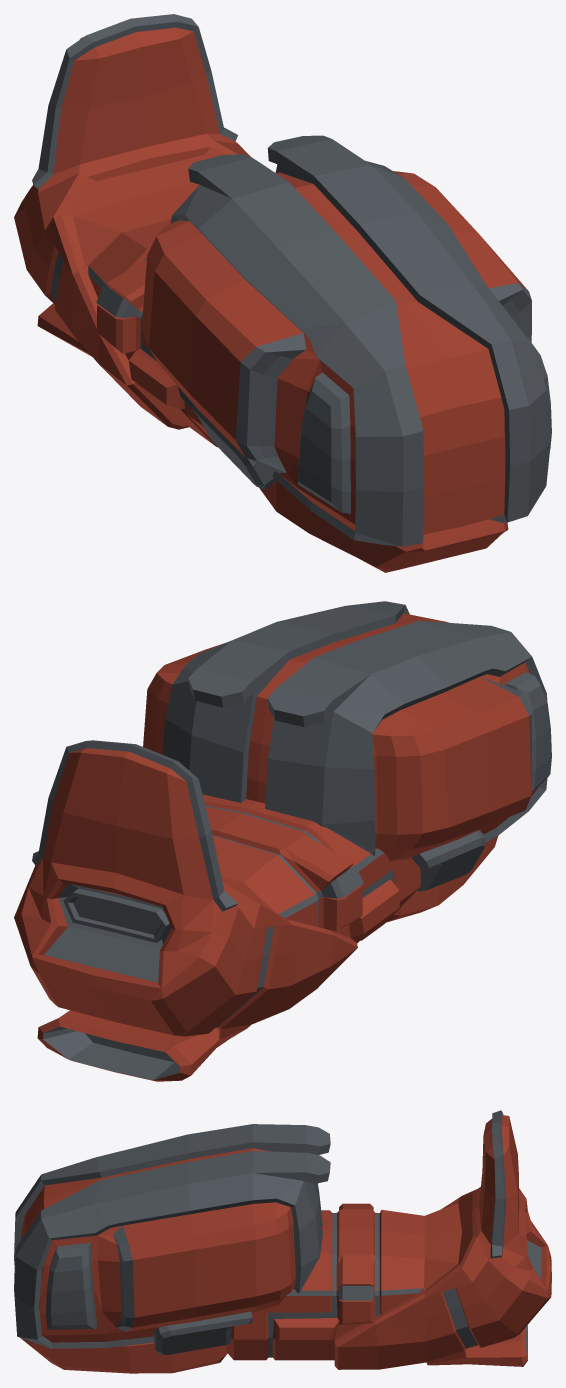
The model's file is Personal_Vehicle_01_Neutral_Red.fbx.
3 views of the same model, one above another, from view 1: azimuth 30°, elevation 25°; view 2: azimuth 150°, elevation 25°; view 3: azimuth 270°, elevation 25° (orthographic). The views are drawn at different scales.
Visible parts, largest first — view 1: Personal_Vehicle_01_Neutral_Red; view 2: Personal_Vehicle_01_Neutral_Red; view 3: Personal_Vehicle_01_Neutral_Red.
Boxes of the visible parts, bbox=[...] form: Personal_Vehicle_01_Neutral_Red: bbox=[14, 14, 551, 572]; Personal_Vehicle_01_Neutral_Red: bbox=[14, 601, 551, 1081]; Personal_Vehicle_01_Neutral_Red: bbox=[14, 1110, 551, 1373].
Bounding box in the file's own units: 141 × 143 × 300.
2 materials, 2 textured.
